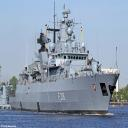Fragata: (8, 2, 122, 117)
